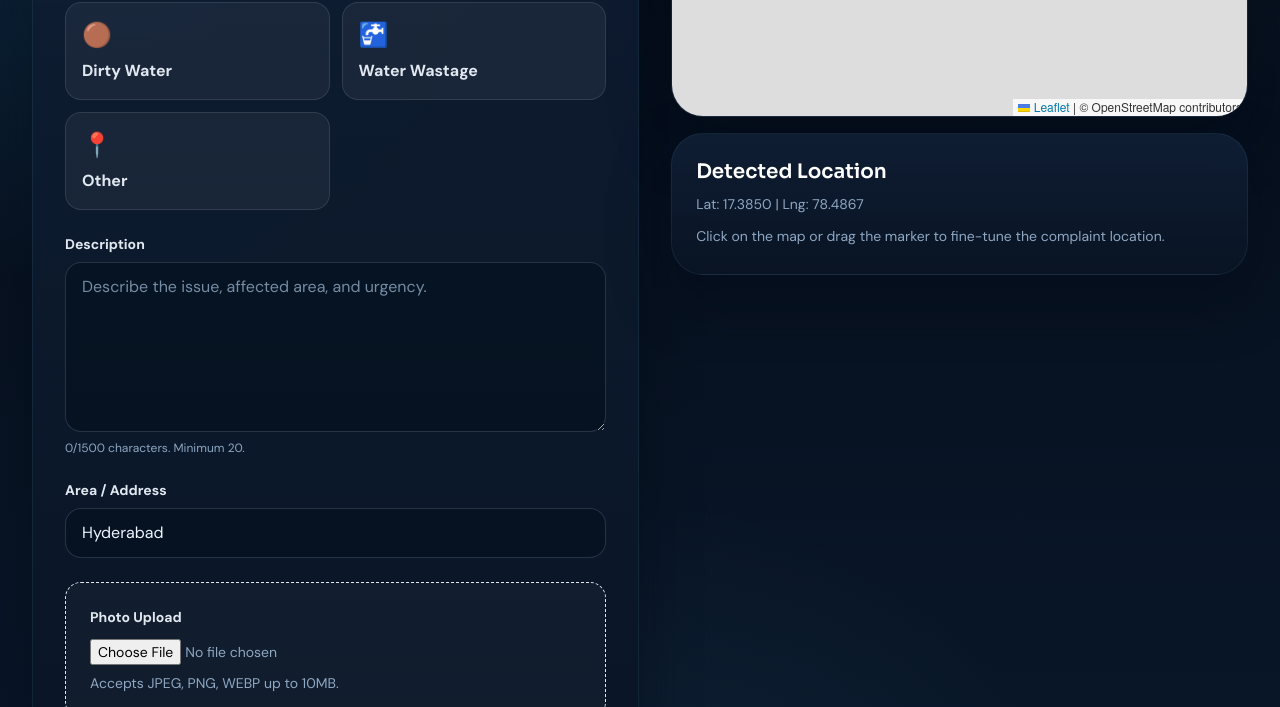
it: Report page › renders a success state after a valid complaint submission
(page scrolled)
Type "Broken pipeline leaking water near the main road for several hours." into the text box with placeholder "Describe the issue, affected area, and urgency." at [336, 347], box [65,262,606,432]
(page scrolled)
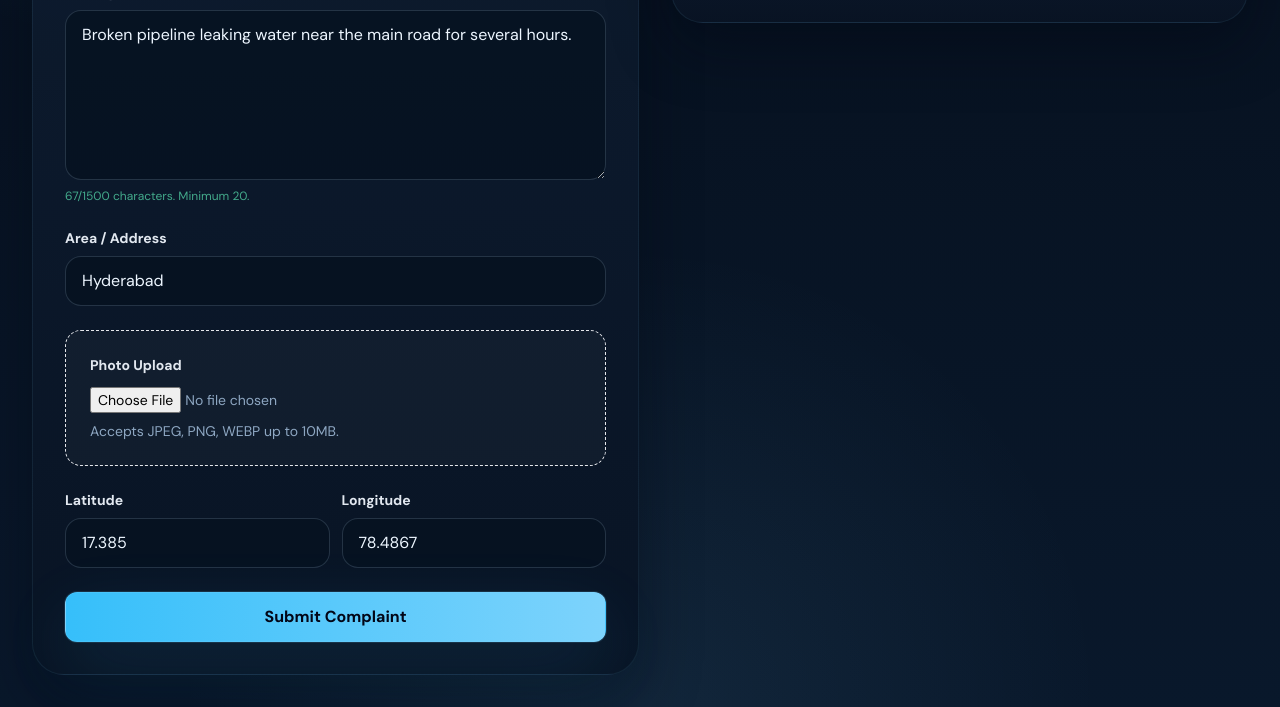
Click the button "Submit Complaint" at [336, 617], box [65,592,606,642]
(page scrolled)
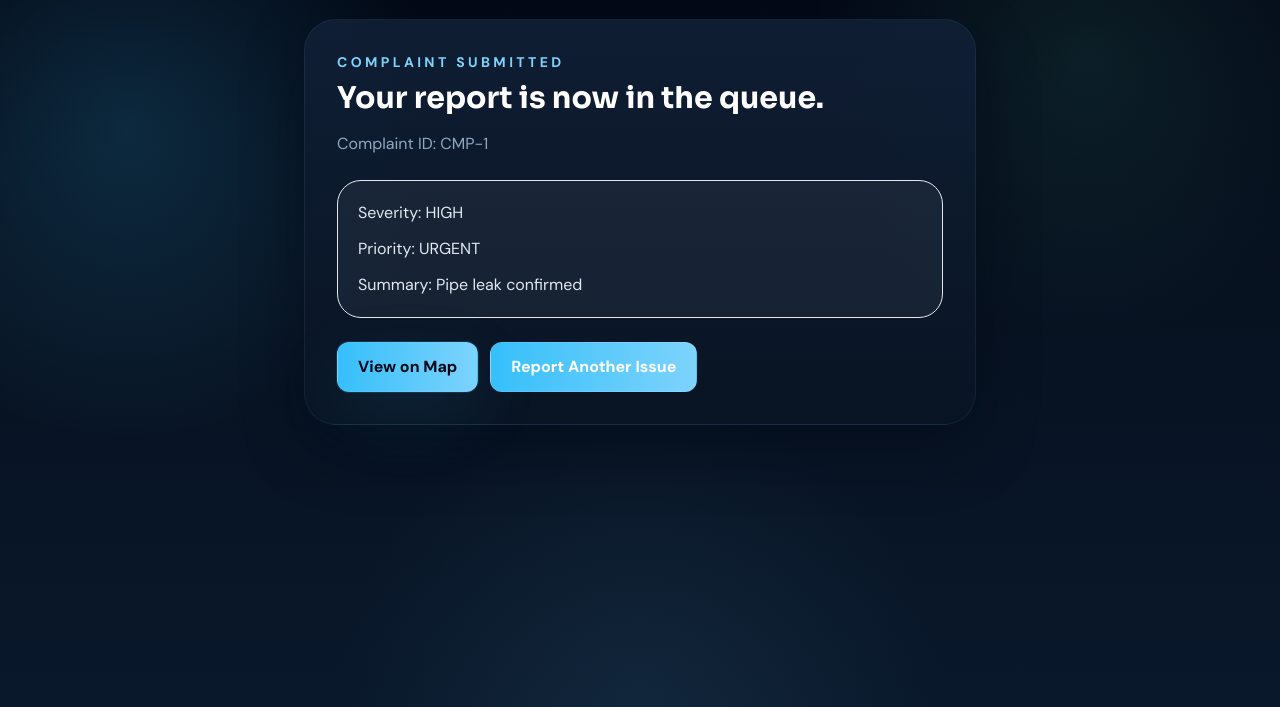
Check: the text "Complaint submitted" is shown, box [337,53,564,71]
Check: the text "Complaint ID: CMP-1" is shown, box [337,133,488,154]
